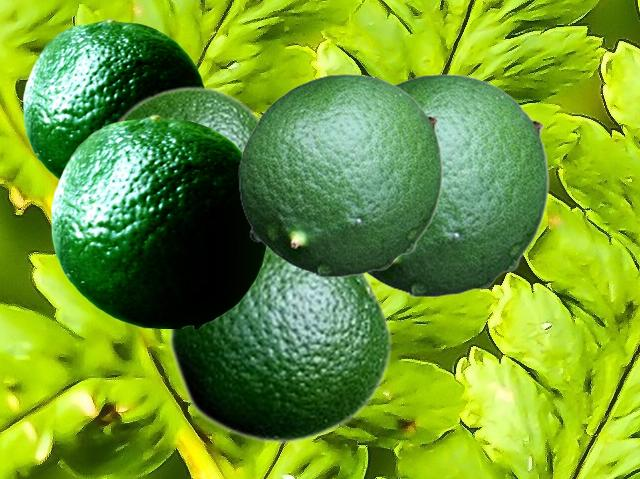calamansi: (51, 114, 268, 327), (167, 250, 392, 444), (238, 73, 442, 276), (367, 73, 548, 296), (23, 18, 204, 179), (116, 85, 258, 148)
